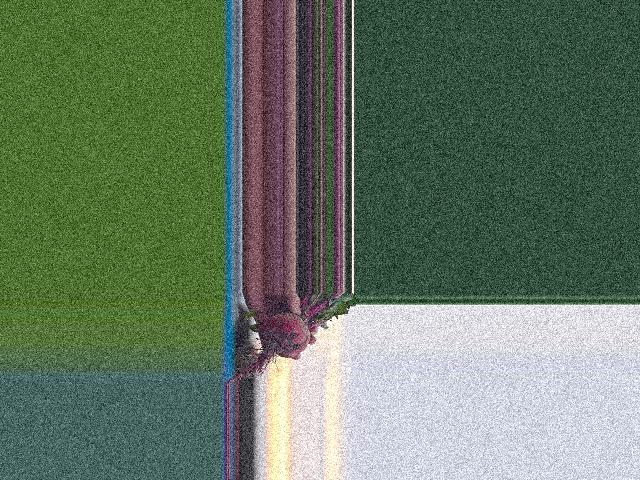beet: (226, 293, 356, 384)
